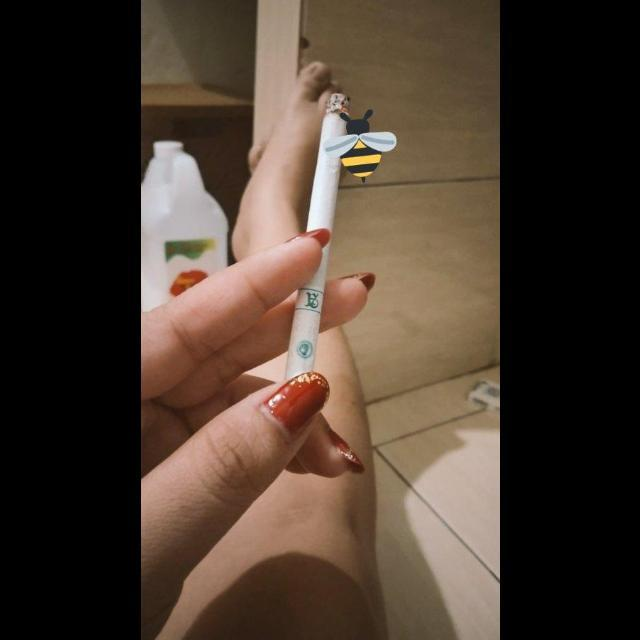rokok: (278, 87, 350, 381)
